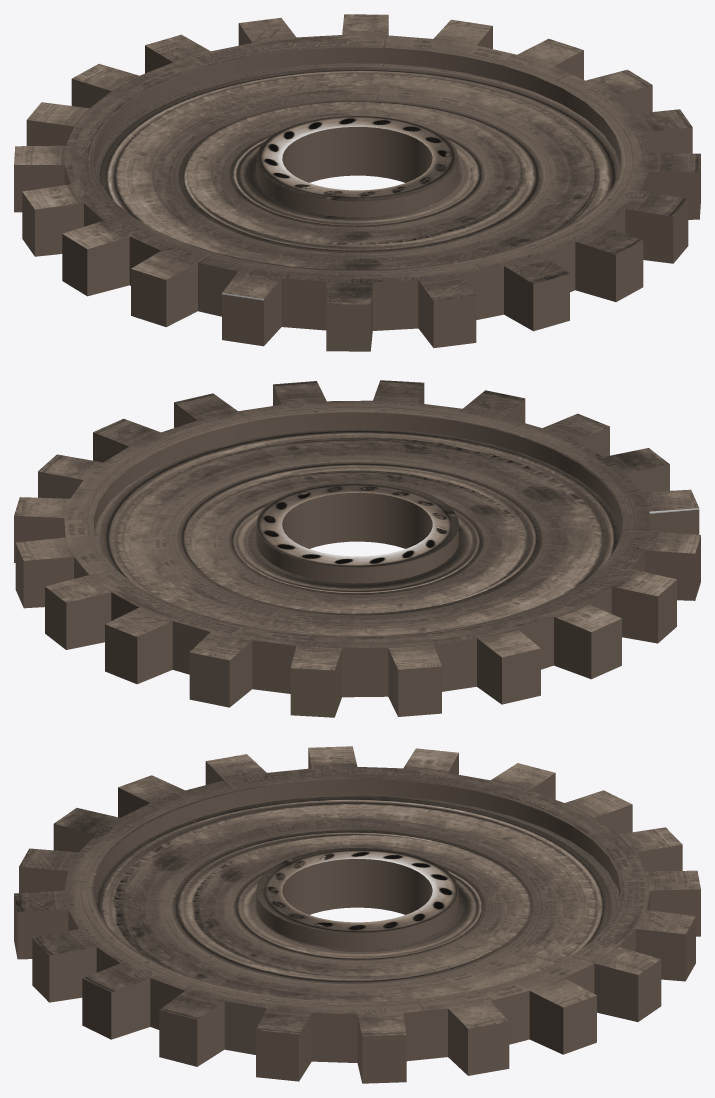
Rendered from RubberGear.fbx.
The picture shows the model from 3 angles, top to bottom: view 1: azimuth 30°, elevation 25°; view 2: azimuth 150°, elevation 25°; view 3: azimuth 270°, elevation 25°; orthographic projection.
Parts seen in each view (by area): view 1: pPipe1; view 2: pPipe1; view 3: pPipe1.
Part boxes in pixels (box(x1,y1,x2,y2)): pPipe1: box(14, 14, 700, 351); pPipe1: box(14, 380, 700, 717); pPipe1: box(14, 746, 700, 1083).
Size of the model in its own units: 23.35 by 1.83 by 23.35.
